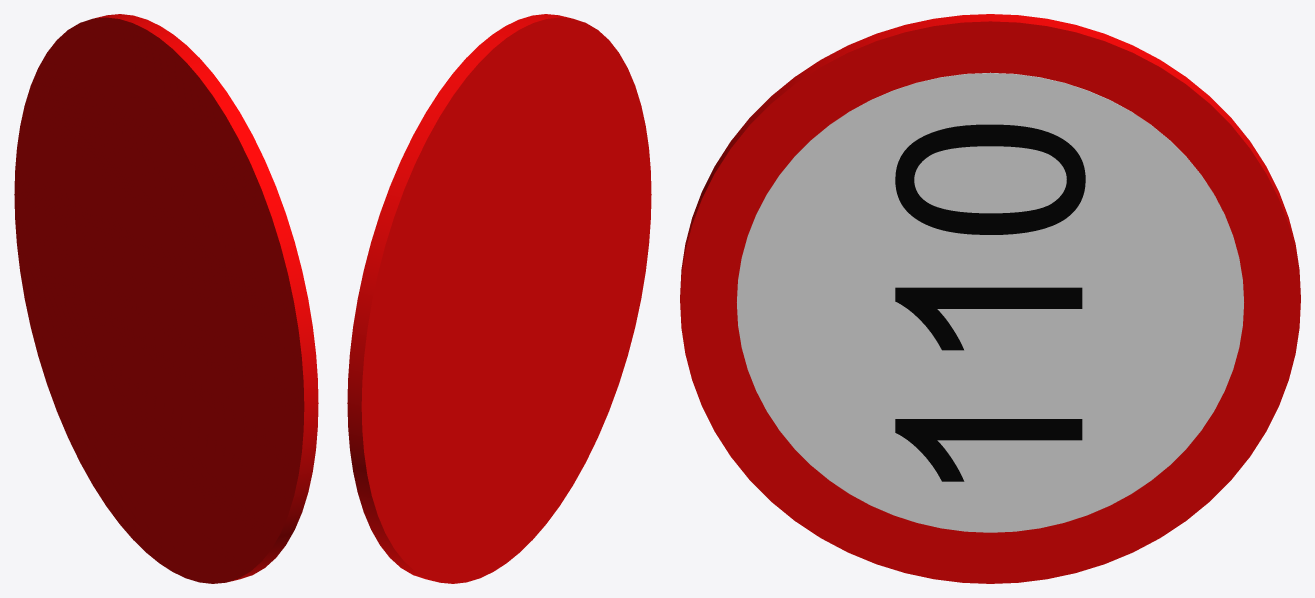
3 renders of one model, left to right at view 1: azimuth 30°, elevation 25°; view 2: azimuth 150°, elevation 25°; view 3: azimuth 270°, elevation 25°, orthographic. The views are drawn at different scales.
Parts seen in each view (by area): view 1: 限速110; view 2: 限速110; view 3: 限速110.
Part boxes in pixels (x1=…): 限速110: x1=14, y1=14, x2=318, y2=583; 限速110: x1=347, y1=14, x2=651, y2=583; 限速110: x1=680, y1=14, x2=1300, y2=583.
Size of the model in its own units: 0.0237 by 0.7737 by 0.7737.
